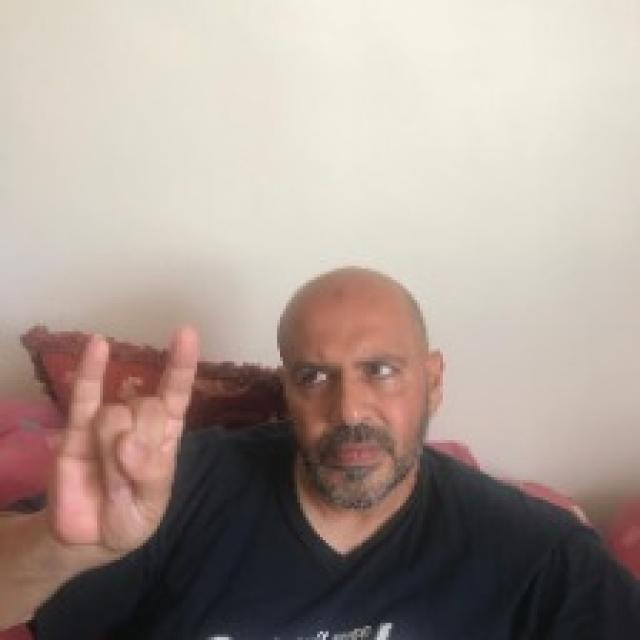No: (48, 317, 203, 556)
